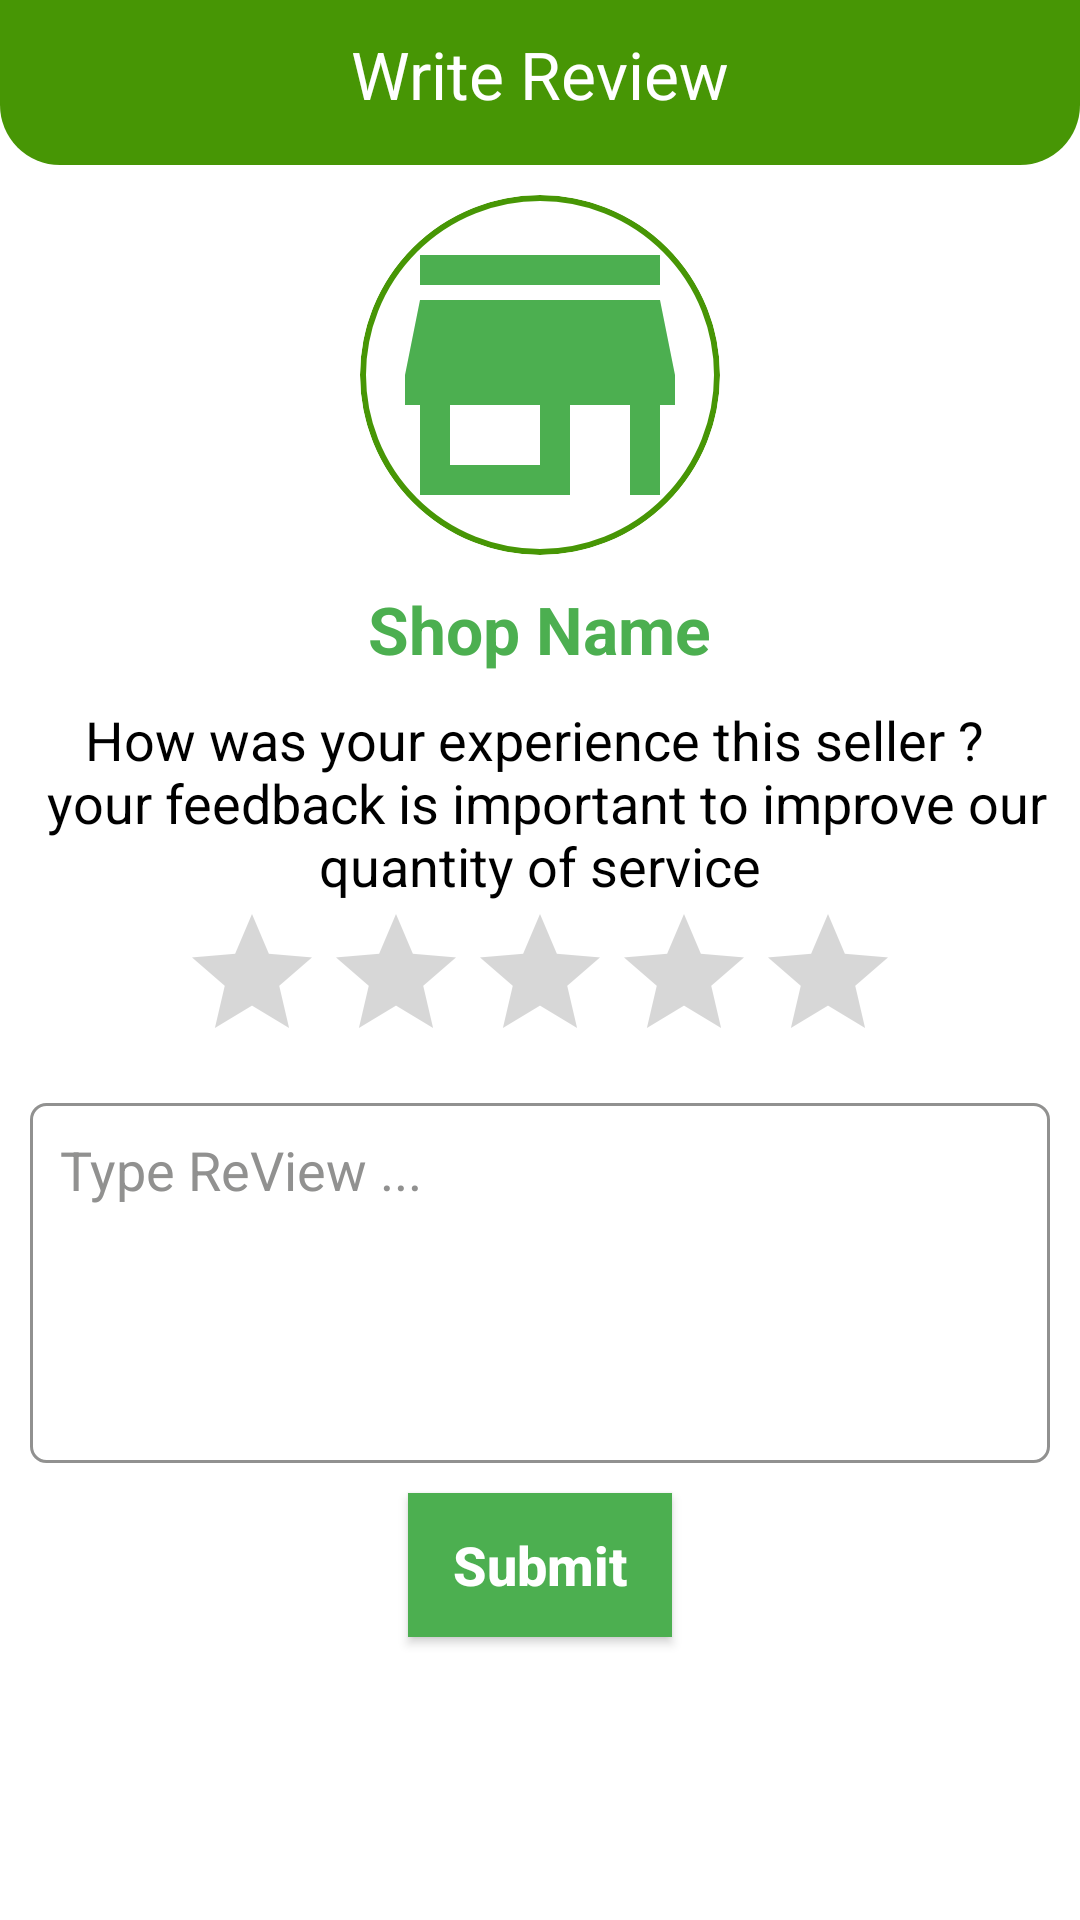

Screen size 1080 × 1920. Icon name, then its center in pixels as point (x, y):
store: point (540, 375)
